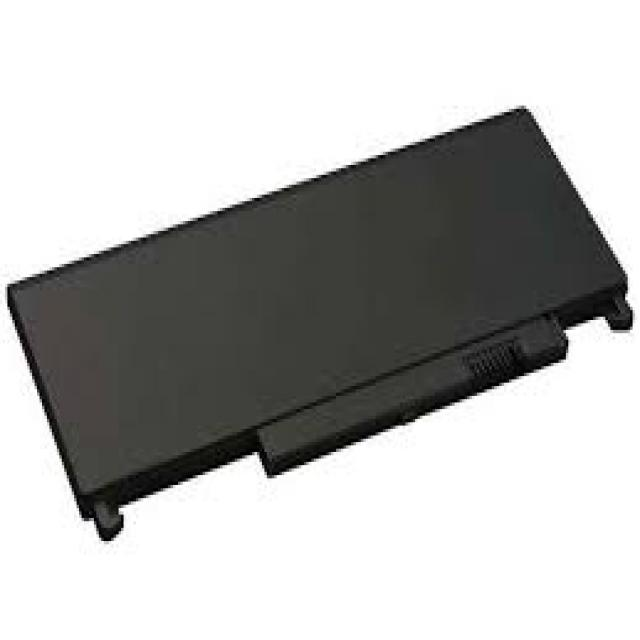non-organic waste: (8, 89, 633, 541)
